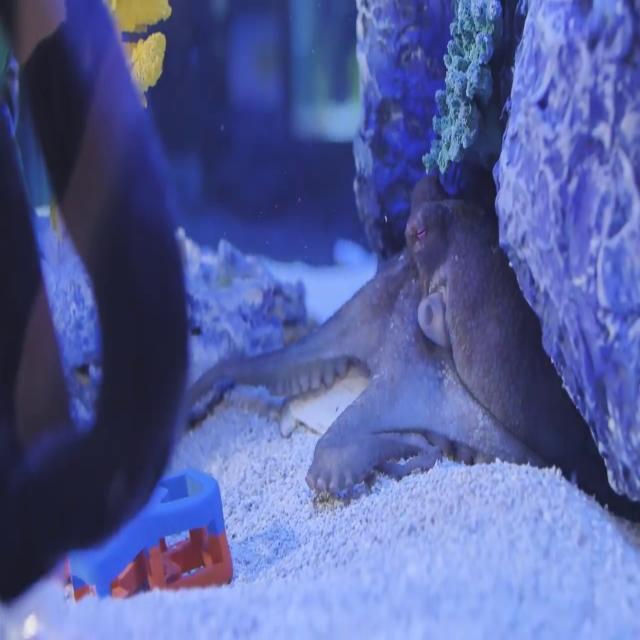octopus: (180, 165, 640, 516)
